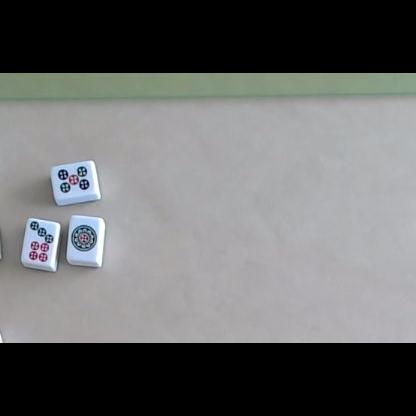1p: (71, 224, 98, 253)
5p: (57, 165, 90, 194)
7p: (28, 220, 54, 263)
